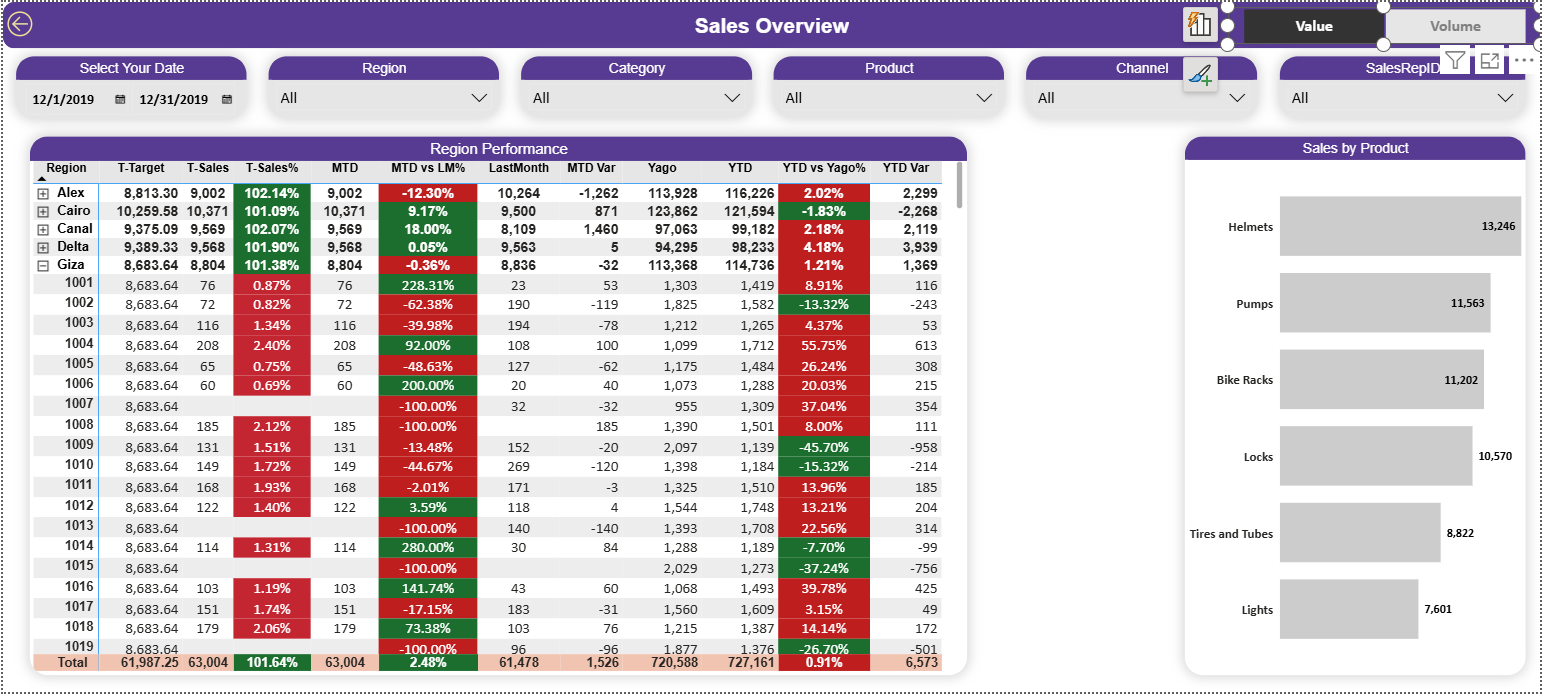

This screenshot's page, from the dashboard's own definition file:
{"tool":"powerbi","page":{"name":"Drill (Rep Per)","canvas":[2050,920],"ordinal":4},"visuals":[{"type":"clusteredBarChart","title":"Sales by Product","fields":{"Category":["Dim_Product.Product"],"Y":["Val_Or_Vol_PramT.Table_Val_Or_Vol"]},"box":[1574.7,178,455.8,719.8],"z":0},{"type":"pivotTable","title":"Region Performance","fields":{"Rows":["Dim_Region.Region","SalesData.SalesRepID"],"Values":["#Val_Or_Vol_PramT.T-Target","Val_Or_Vol_PramT.Table_Val_Or_Vol","#Val_Or_Vol_PramT.Taget% Sales","#Val_Or_Vol_PramT.MTD-Sales","#Val_Or_Vol_PramT.MTD vs LM%","#Val_Or_Vol_PramT.MTD-LM","#Val_Or_Vol_PramT.MTD Var","#Val_Or_Vol_PramT.Yago","#Val_Or_Vol_PramT.YTD","#Val_Or_Vol_PramT.YTD vs Yago%","#Val_Or_Vol_PramT.YTD Var"]},"box":[35.6,177.8,1251.1,720],"z":1000},{"type":"shape","box":[0,0,2050.3,61.7],"z":2000},{"type":"actionButton","box":[0,6.7,91.8,45],"z":3000},{"type":"slicer","fields":{"Values":["Val_Or_Vol_PramT.Option"]},"box":[1633.3,5.9,416.7,50.9],"z":4000},{"type":"slicer","title":"Region","fields":{"Values":["Dim_Region.Region"]},"box":[352.8,72,309,83],"z":5000},{"type":"slicer","title":"Product","fields":{"Values":["Dim_Product.Product"]},"box":[1027.2,72,309.1,82.2],"z":6000},{"type":"slicer","title":"Category","fields":{"Values":["Dim_Product.Category"]},"box":[689.7,72,309.7,82.3],"z":7000},{"type":"slicer","title":"Channel","fields":{"Values":["Channels.Channel"]},"box":[1364.1,72,309.7,83.9],"z":8000},{"type":"slicer","title":"Select Your Date","fields":{"Values":["Calender.Date"]},"box":[16,72,309,84],"z":9000},{"type":"slicer","title":"SalesRepID","fields":{"Values":["SalesData.SalesRepID"]},"box":[1701.6,72,329,83.9],"z":10000}]}

Visuals, with their boxes on the page's 2050x920 design canvas (x1, y1, x2, y2). These are canvas units, not pixel positions in the 1544x696 screenshot, which may show the page scaled, cropped or inside an application window:
"Sales by Product" clusteredBarChart: box=[1575, 178, 2030, 898]
"Region Performance" pivotTable: box=[36, 178, 1287, 898]
shape: box=[0, 0, 2050, 62]
actionButton: box=[0, 7, 92, 52]
slicer - Val_Or_Vol_PramT.Option: box=[1633, 6, 2050, 57]
"Region" slicer: box=[353, 72, 662, 155]
"Product" slicer: box=[1027, 72, 1336, 154]
"Category" slicer: box=[690, 72, 999, 154]
"Channel" slicer: box=[1364, 72, 1674, 156]
"Select Your Date" slicer: box=[16, 72, 325, 156]
"SalesRepID" slicer: box=[1702, 72, 2031, 156]
